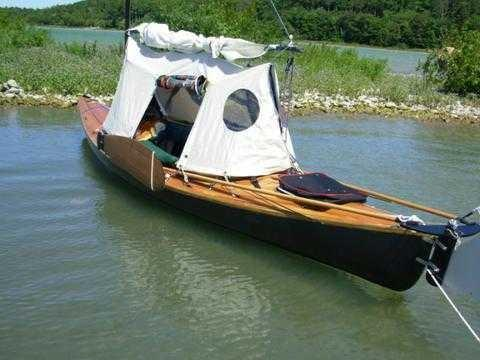kayak: (74, 9, 479, 299)
